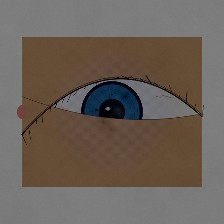pinguecula_lesion: (40, 95, 80, 128)
